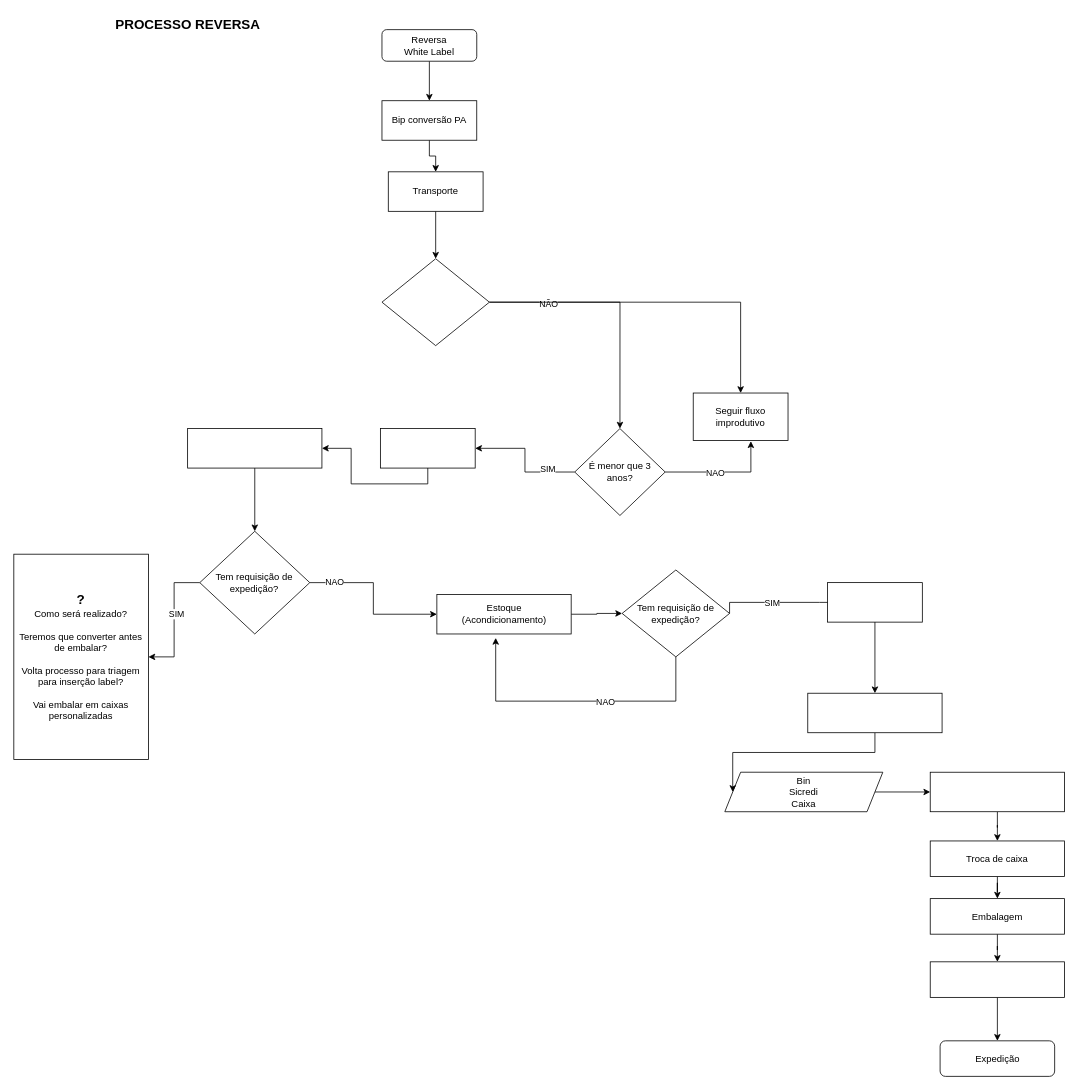
This 1078x1090 diagram has some shape labels left out. Here are the shapes that lost their labels. From the top down, the centre of each, then its label:
the point at 435,302: Recebimento CD É produtivo?
the point at 254,448: Embalagem White label (Caixa Parda)
the point at 427,448: Triagem
the point at 874,602: Estorno (Altera o status do estoque para Ag.Embalagem)
the point at 874,712: Conversão (Defini a aliança a ser usada)
the point at 997,791: Produção (Ag. Embalagem)
the point at 997,979: Controle de Qualidade (CQ)
